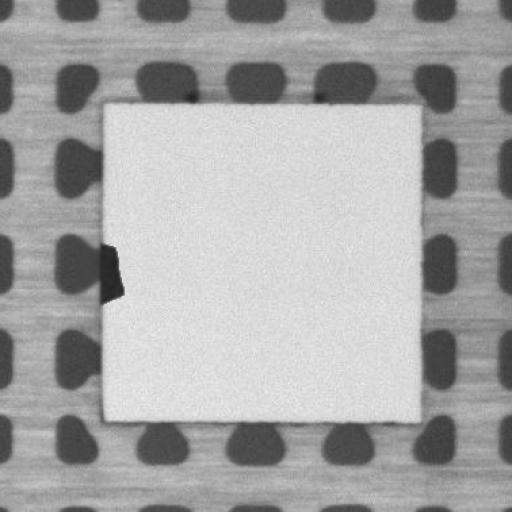DIE_BROKEN: (94, 233, 126, 310)
